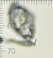microplastic: (8, 3, 34, 39), (6, 38, 37, 47)
